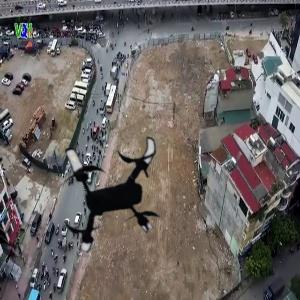drone: (42, 120, 177, 255)
